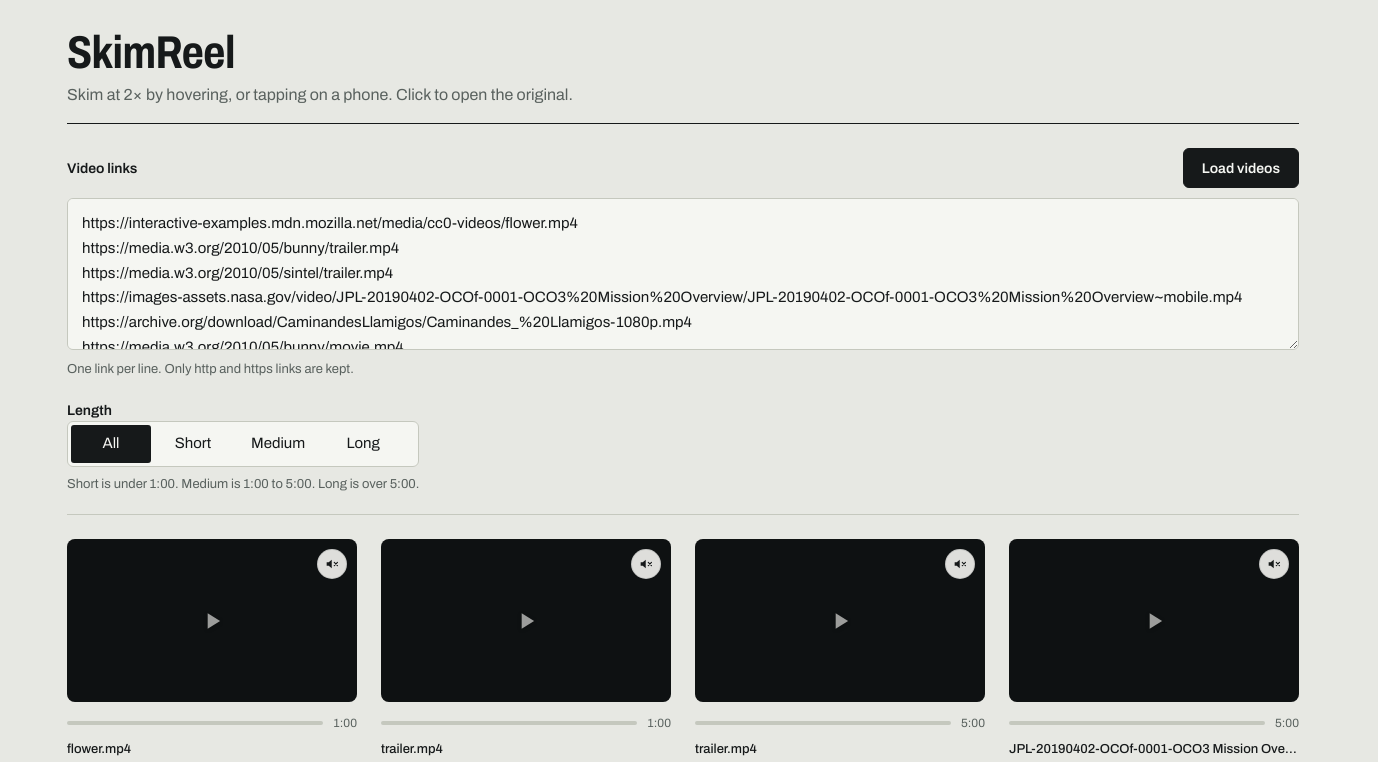
Scenario: the length filter › shows only matching videos once durations are known, including the boundaries
The image size is (1378, 762).
Click the radio button labelled "Short" at (193, 444), box 175,436 -> 211,452
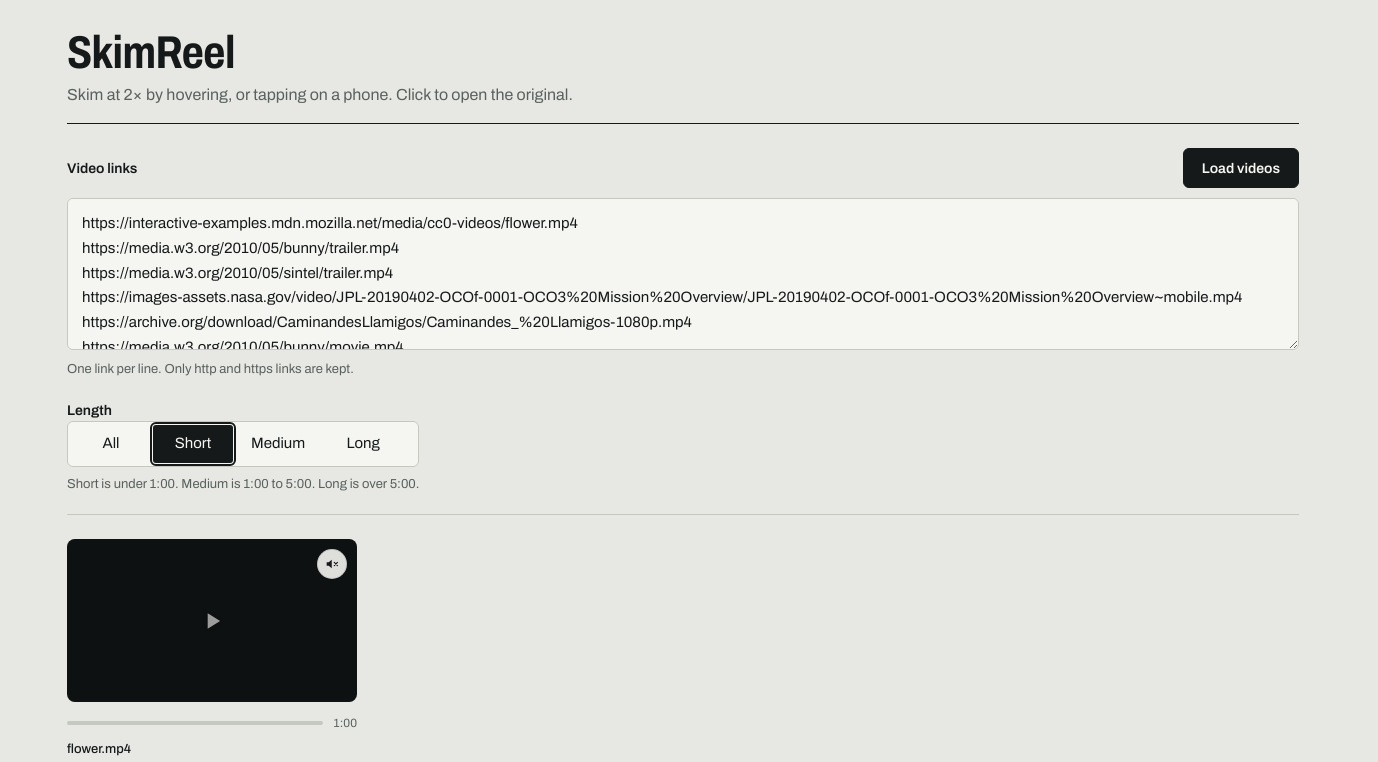
Click the radio button labelled "Medium" at (278, 444), box 251,436 -> 305,452
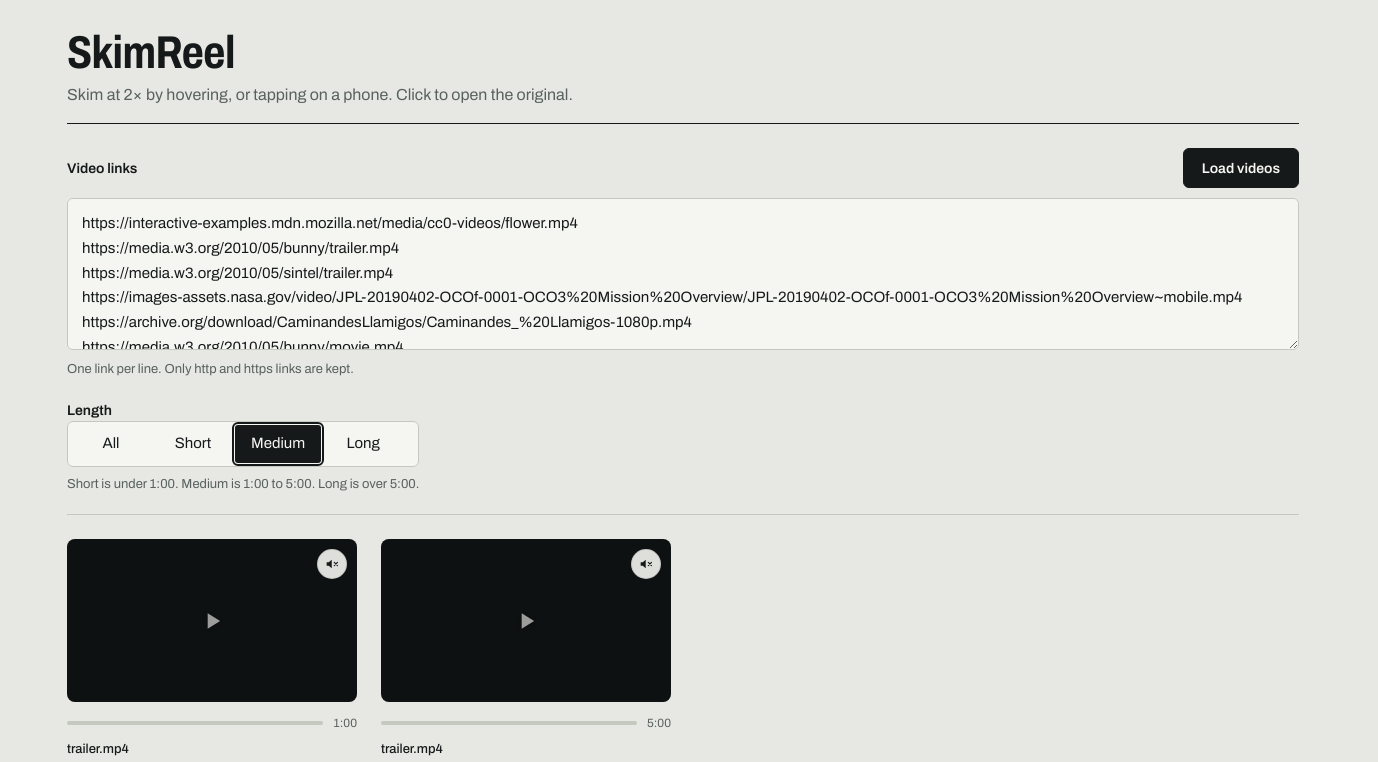
expect the number of buttons named "Preview " is 2: met, box 67,539 -> 357,702; 381,539 -> 671,702
Click the radio button labelled "Long" at (363, 444), box 346,436 -> 380,452
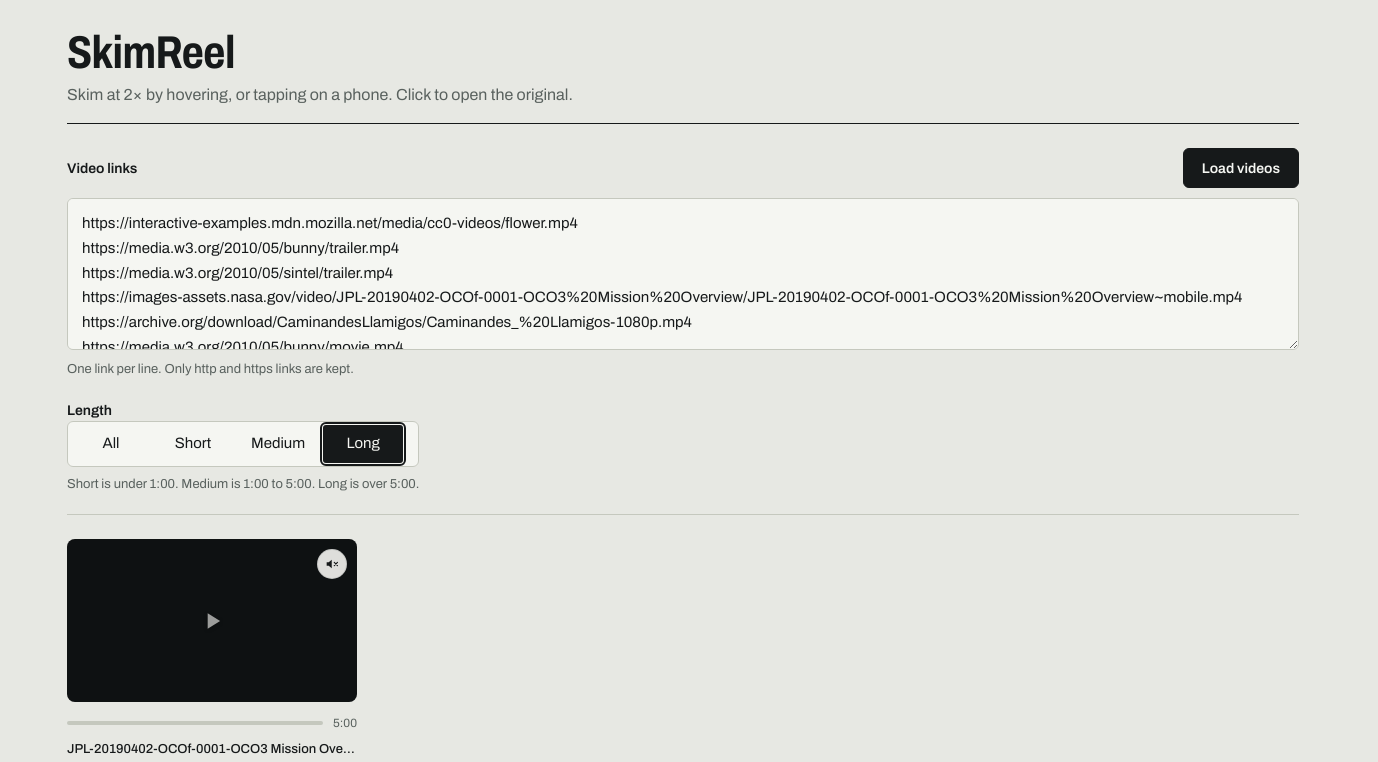
expect the number of buttons named "Preview " is 1: met, box 67,539 -> 357,702
Click the radio button labelled "All" at (111, 444), box 102,436 -> 120,452
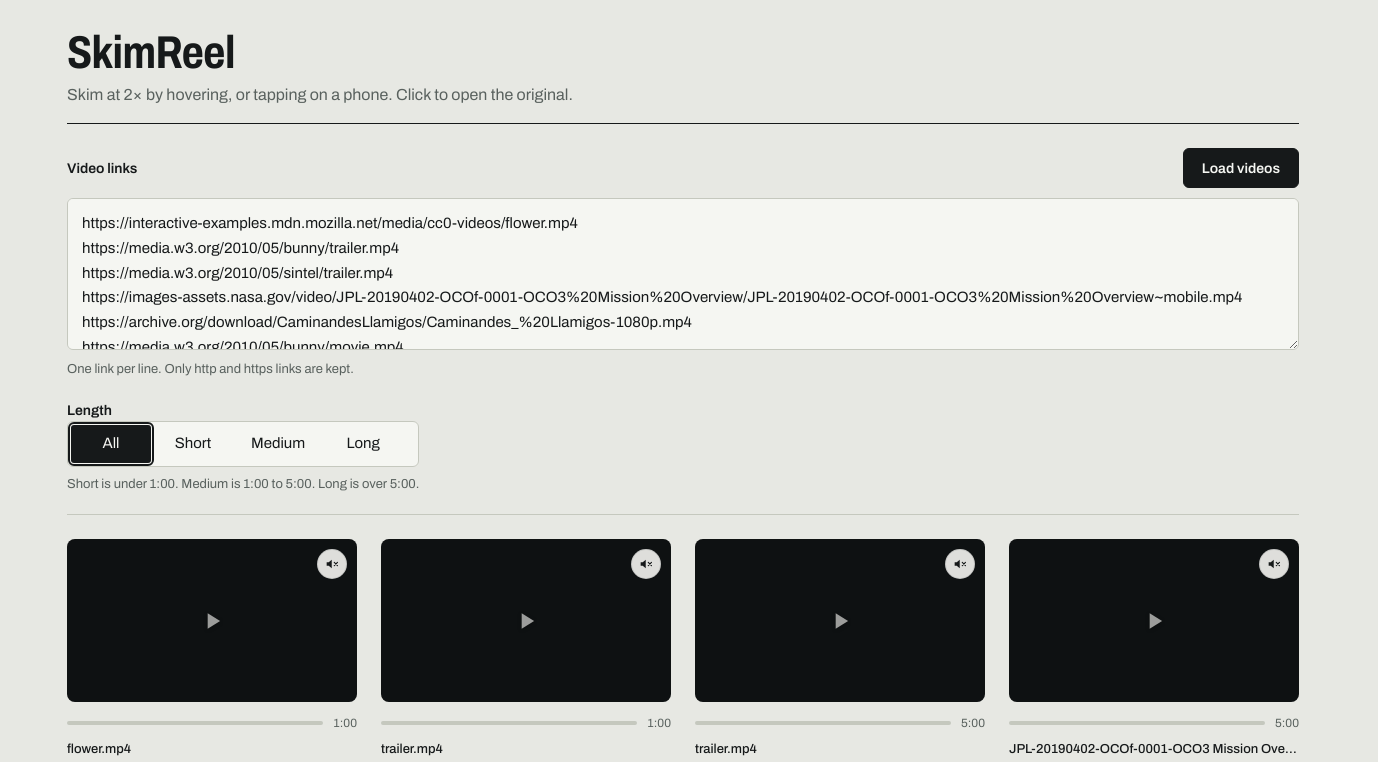
expect the number of buttons named "Preview " is 9: met
